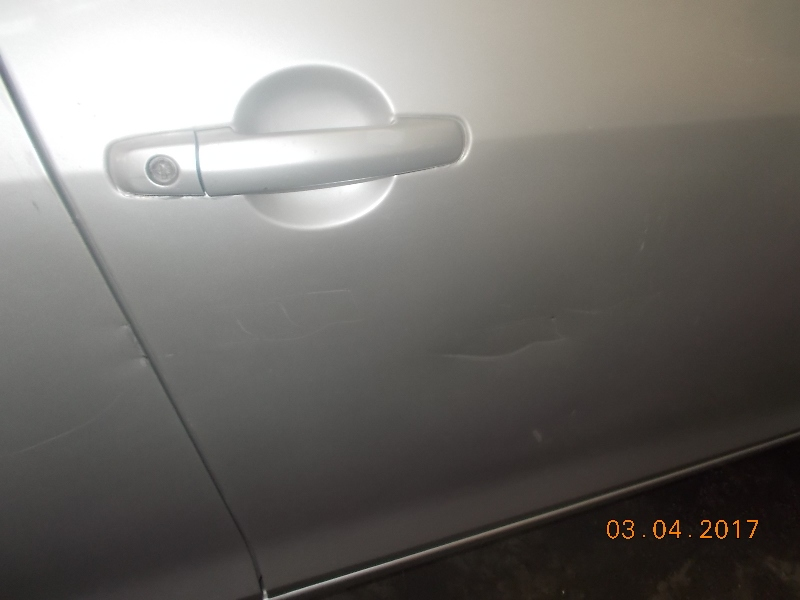Scratch_or_spot: (446, 336, 531, 387)
